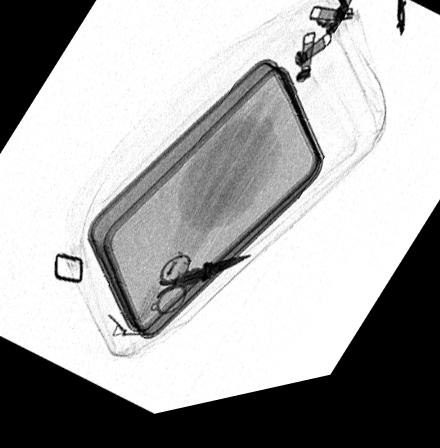Scissors: (154, 259, 253, 326)
